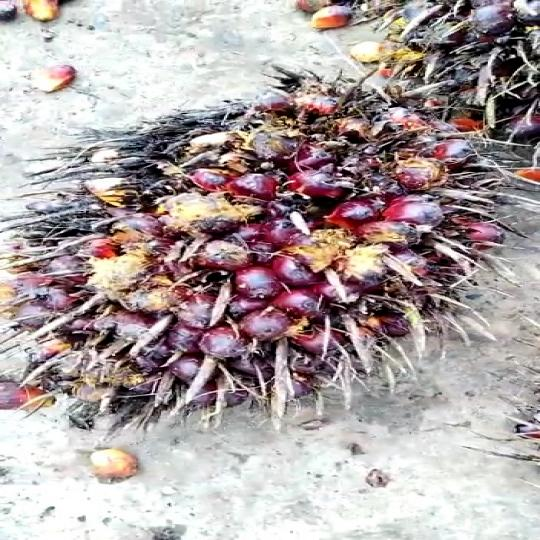masak: (0, 71, 514, 432)
